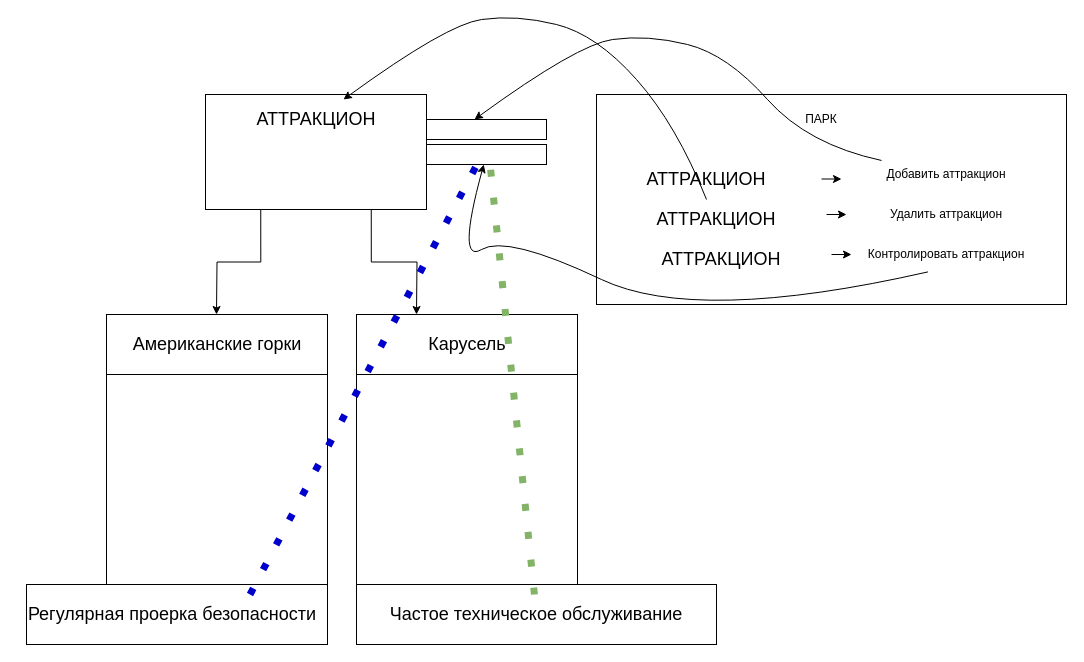
Some shapes in this 1084 by 662 pixel diagram are drawn without their labels. Each missing label, with the centre of its shape:
"обслуживание" belongs at [486,129].
"проверка" belongs at [486,154].
